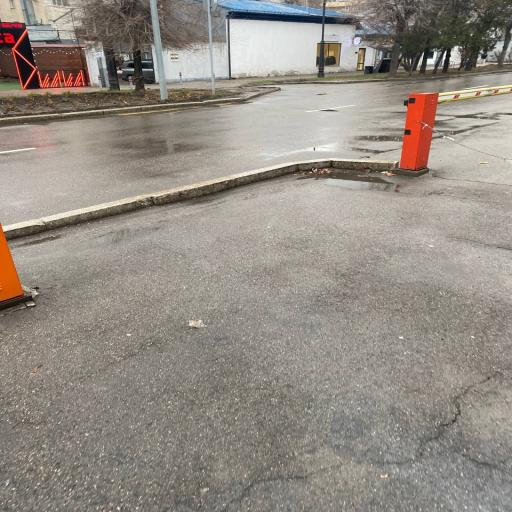construction_fence: (4, 159, 397, 239), (0, 86, 279, 125), (267, 70, 511, 86)
phone: (150, 0, 167, 99), (207, 0, 214, 94), (104, 48, 119, 90), (318, 0, 325, 77)
ramp: (0, 140, 511, 511), (0, 74, 511, 224)
